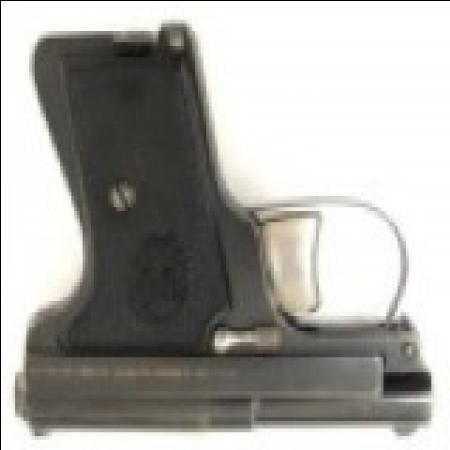Pistol: (12, 33, 428, 442)
